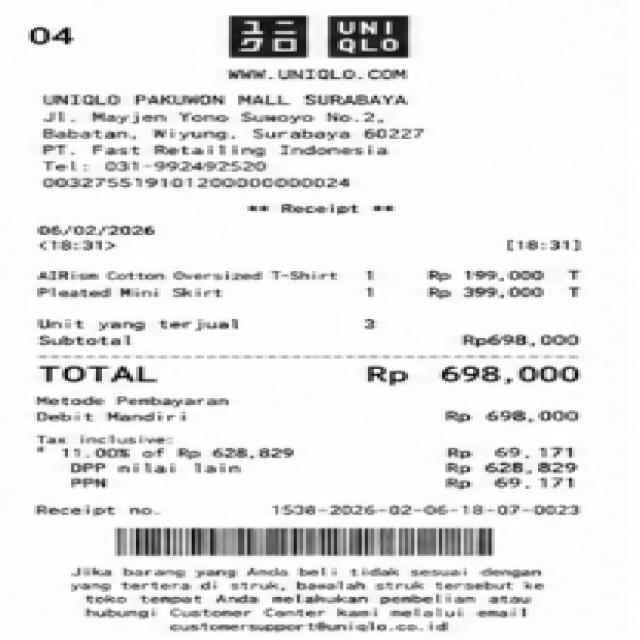date: (28, 221, 174, 253)
store: (216, 10, 421, 62), (35, 89, 419, 111)
total: (29, 358, 592, 389)
